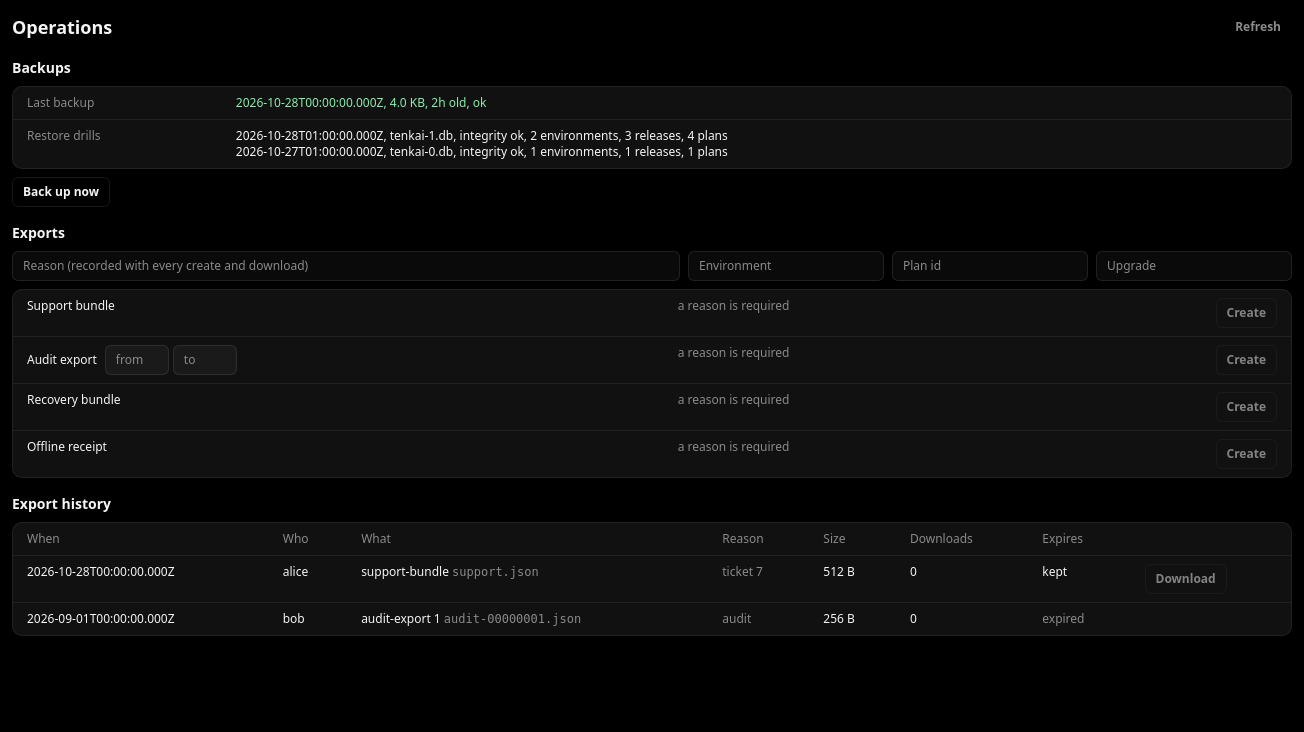
Operations › takes a backup after confirmation and shows the server's refusal
The image size is (1304, 732).
Click the button "Back up now": (61, 192) [12,177,110,207]
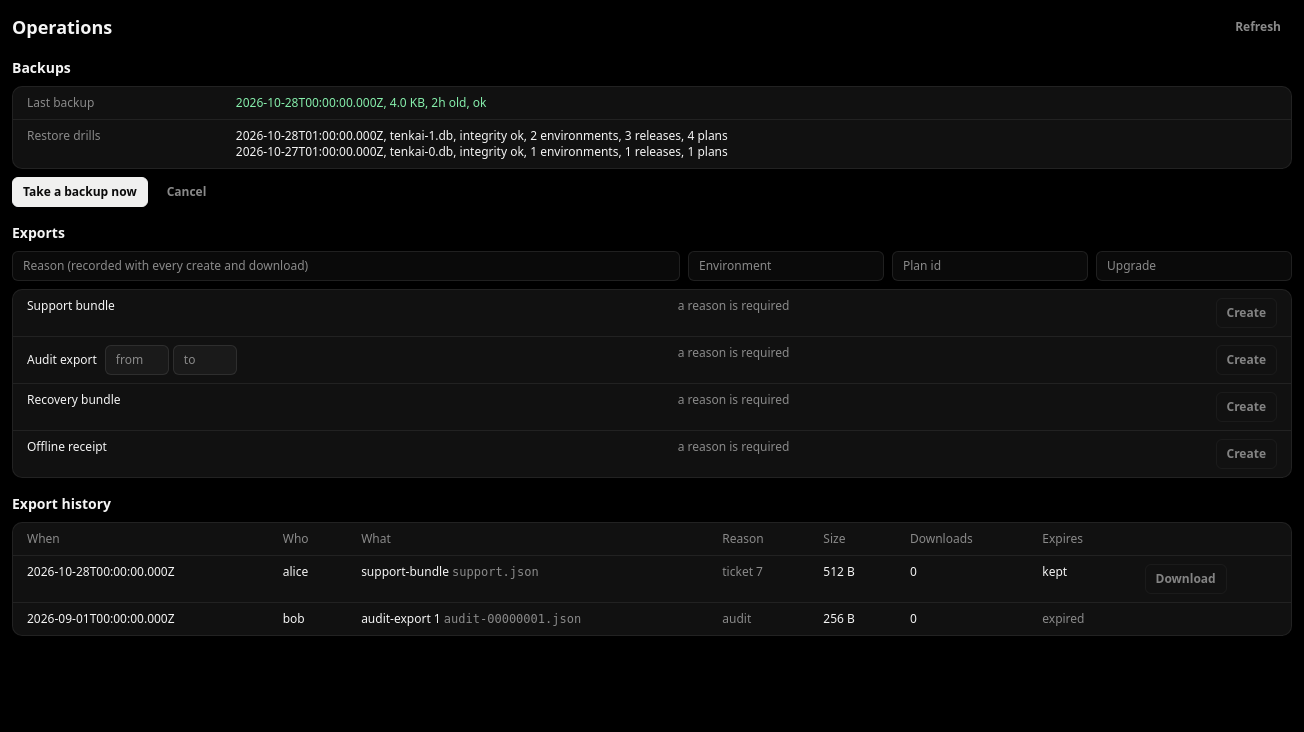
Click the button "Take a backup now": (80, 192) [12,177,148,207]
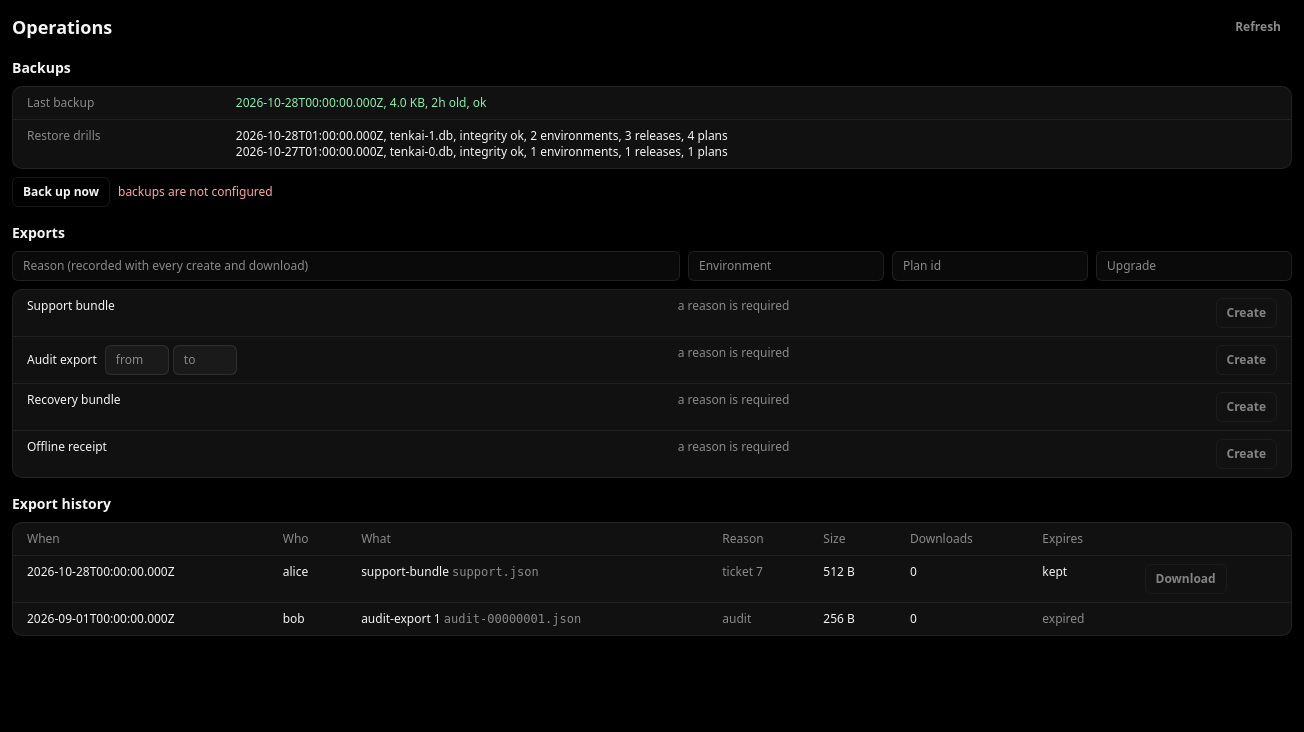
Now the text "backups are not configured" is shown, box [118,184,273,200]
